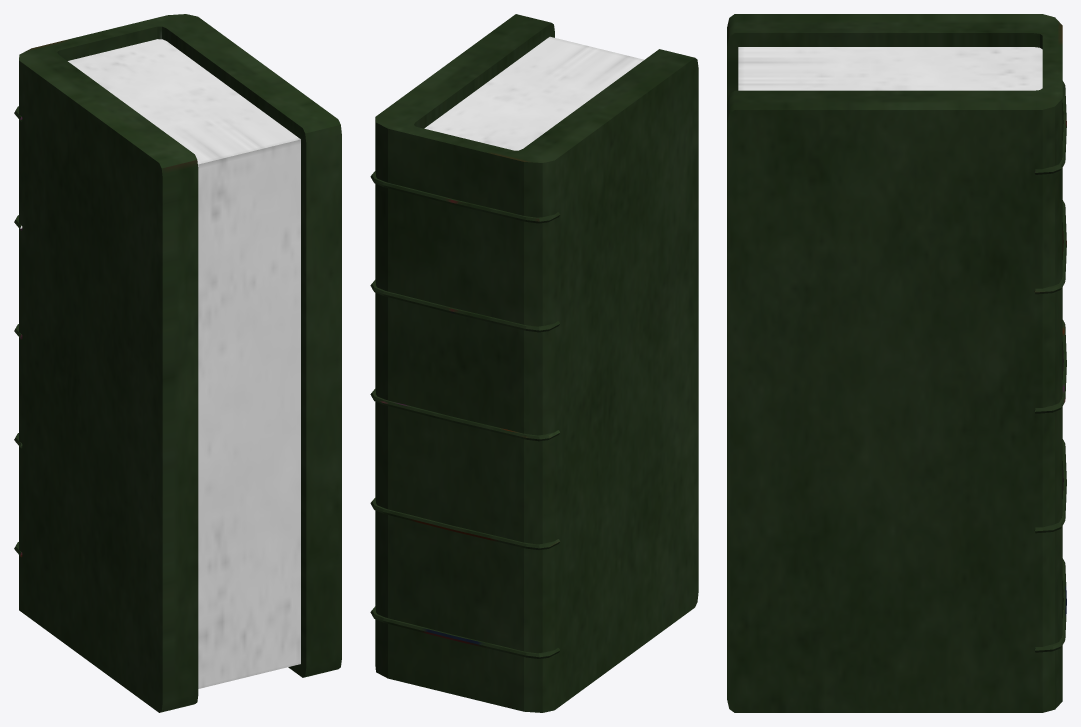
Rendered from SM_Book_01.fbx.
The picture shows the model from 3 angles, left to right: view 1: azimuth 30°, elevation 25°; view 2: azimuth 150°, elevation 25°; view 3: azimuth 270°, elevation 25°; orthographic projection. The views are drawn at different scales.
Parts seen in each view (by area): view 1: BoolShelf_Low.055; view 2: BoolShelf_Low.055; view 3: BoolShelf_Low.055.
Part boxes in pixels (bbox=[...]): BoolShelf_Low.055: bbox=[14, 14, 341, 712]; BoolShelf_Low.055: bbox=[370, 14, 698, 712]; BoolShelf_Low.055: bbox=[727, 14, 1066, 712].
Bounding box in the file's own units: 27.83 × 79.58 × 40.65.
